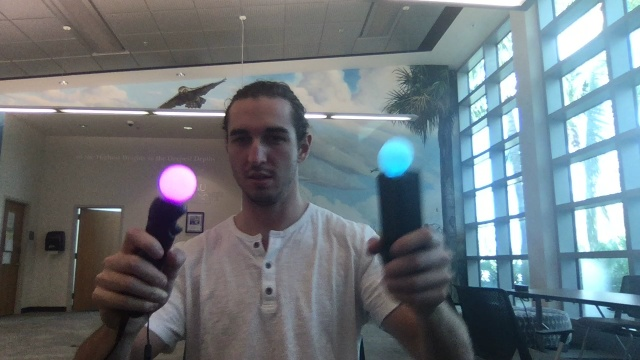wand: (158, 163, 199, 201), (377, 139, 414, 175)
